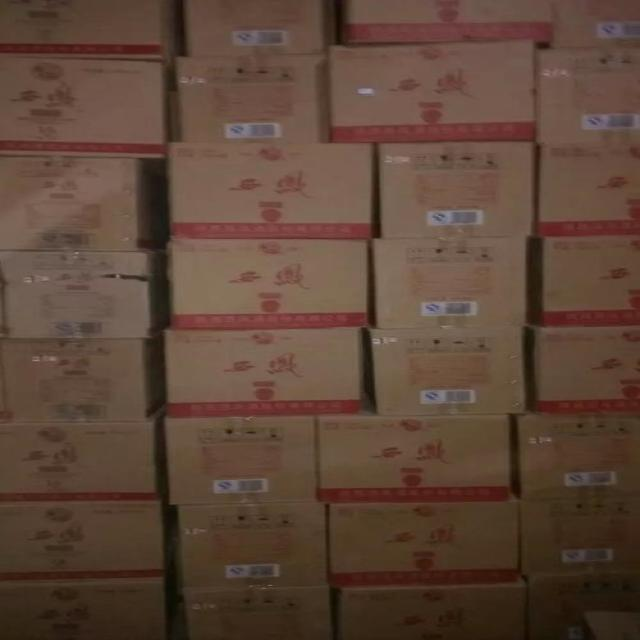box: (326, 38, 538, 142), (157, 140, 375, 238), (316, 398, 513, 504), (159, 237, 370, 330), (326, 492, 520, 588), (163, 327, 366, 416), (0, 56, 172, 161), (0, 484, 172, 581), (375, 141, 539, 238), (362, 322, 527, 416), (0, 154, 159, 251), (370, 237, 534, 328), (0, 250, 168, 338), (0, 331, 164, 421), (0, 413, 166, 501), (168, 501, 329, 589), (0, 558, 172, 640), (172, 53, 328, 142), (163, 416, 319, 505), (0, 0, 187, 70), (329, 576, 526, 640), (513, 408, 639, 499), (534, 46, 640, 146), (526, 324, 639, 416), (532, 235, 639, 326), (538, 142, 639, 237), (520, 496, 639, 576), (337, 0, 553, 44), (174, 585, 335, 640), (180, 0, 338, 56), (522, 571, 640, 640), (550, 0, 640, 48), (579, 610, 640, 640)
